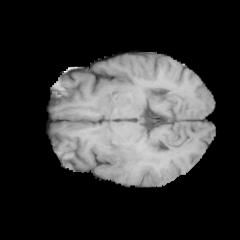glioma: (96, 141, 160, 184)
